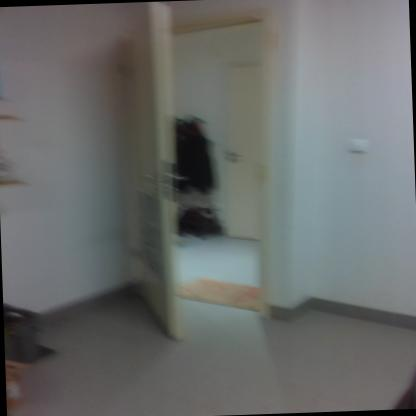semi: (103, 7, 292, 337)
